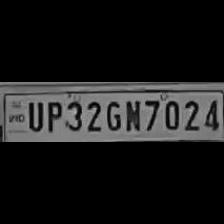0: (160, 98, 180, 132)
2: (180, 97, 200, 131), (84, 99, 102, 134)
3: (64, 99, 82, 134)
4: (200, 96, 220, 132)
7: (141, 97, 158, 132)
G: (102, 98, 122, 132)
N: (122, 97, 140, 133)
P: (44, 99, 62, 134)
U: (25, 100, 43, 132)
